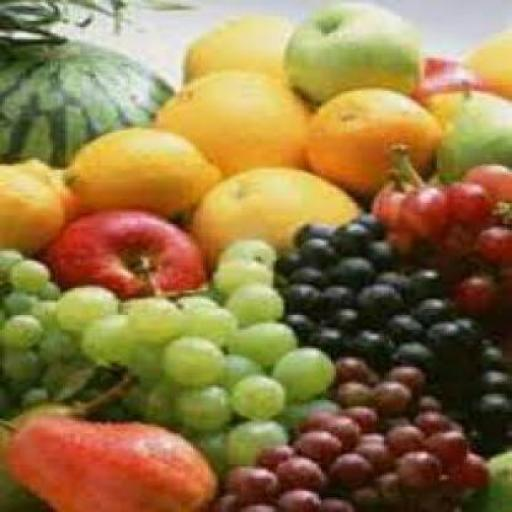biodegradable: (0, 35, 174, 171), (0, 410, 219, 511), (0, 373, 128, 509), (186, 168, 359, 265), (155, 68, 309, 174), (55, 124, 221, 216), (42, 206, 204, 296), (306, 87, 434, 199), (284, 2, 419, 101), (434, 91, 510, 176), (0, 158, 68, 248), (200, 414, 286, 468), (268, 344, 331, 401), (158, 336, 224, 388), (412, 52, 479, 102), (116, 294, 183, 342), (226, 319, 293, 367), (462, 444, 510, 510), (469, 24, 509, 100), (226, 370, 284, 421), (226, 280, 281, 332), (56, 284, 114, 330), (170, 385, 224, 430), (78, 314, 128, 362), (396, 180, 444, 230), (210, 256, 266, 298), (123, 379, 174, 423), (442, 178, 487, 224), (459, 159, 510, 199), (354, 282, 402, 324), (392, 448, 439, 490), (386, 338, 437, 376), (273, 456, 324, 494), (218, 468, 274, 502), (452, 273, 497, 315), (469, 220, 509, 265), (183, 305, 234, 340), (0, 346, 46, 384), (292, 426, 338, 464), (281, 396, 334, 428), (349, 433, 394, 469), (301, 322, 351, 354), (422, 426, 462, 464), (371, 178, 404, 224), (464, 336, 510, 369), (326, 452, 372, 485), (364, 379, 406, 415), (213, 239, 274, 263), (0, 311, 38, 349), (429, 226, 472, 259), (426, 326, 480, 352), (348, 325, 382, 365), (339, 400, 379, 433), (447, 452, 487, 485), (331, 255, 372, 287), (126, 342, 164, 376), (331, 377, 374, 407), (382, 360, 422, 392), (466, 394, 510, 423), (326, 218, 364, 251), (382, 425, 424, 454), (38, 327, 78, 357), (408, 294, 452, 321), (7, 258, 43, 290), (406, 267, 440, 300), (322, 282, 354, 317), (371, 470, 402, 506), (278, 282, 319, 309), (341, 479, 379, 508), (291, 217, 327, 247), (185, 429, 221, 458), (406, 409, 449, 433), (296, 238, 334, 265), (30, 298, 62, 330), (346, 210, 384, 236), (472, 369, 510, 394), (276, 487, 316, 510), (15, 379, 53, 403), (0, 288, 41, 309), (384, 224, 414, 251), (384, 311, 417, 335), (256, 444, 289, 468), (285, 309, 314, 336), (366, 240, 392, 268), (404, 388, 442, 406), (331, 355, 362, 377), (376, 268, 404, 292), (0, 246, 21, 276), (316, 491, 349, 510), (175, 290, 211, 307), (331, 307, 362, 326), (204, 491, 233, 510), (276, 251, 298, 276), (298, 266, 330, 282), (454, 314, 480, 332), (37, 278, 61, 297), (236, 499, 274, 510), (356, 364, 376, 382)
